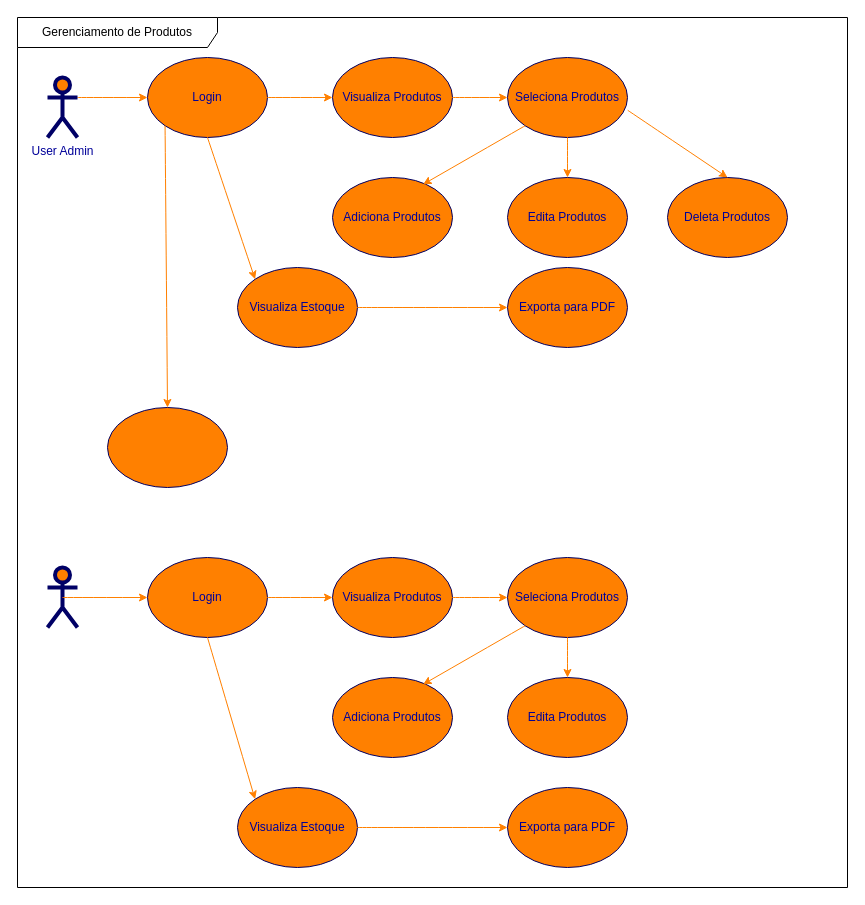
Some shapes in this 865 by 905 pixel diagram are drawn without their labels. Here are the shapes that lost their labels. From the top down, the centre of each, then its label:
At pixel 167 447: "Gerencia Usuários".
At pixel 62 597: "User".
